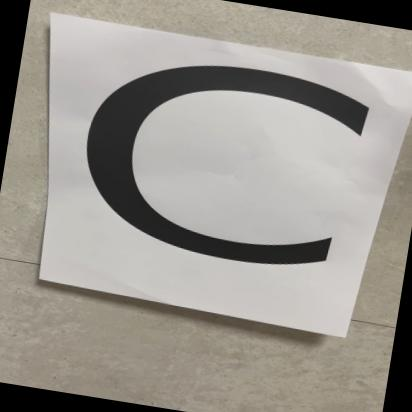seat: (5, 13, 412, 337)
